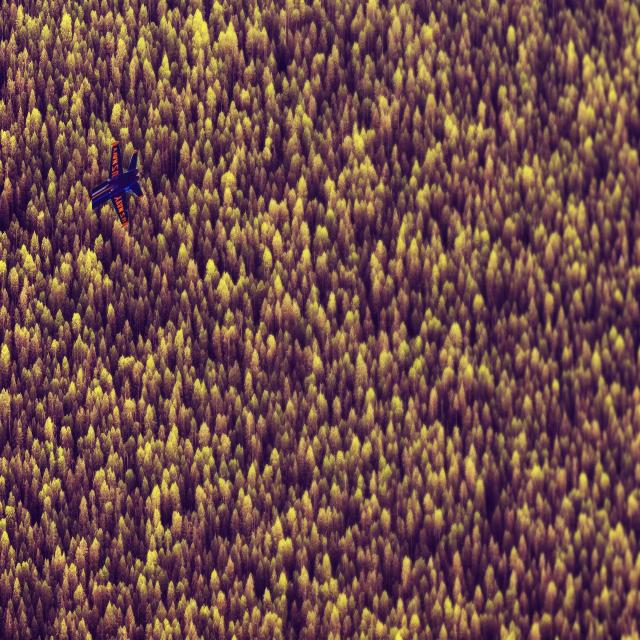airplane: (90, 140, 142, 228)
